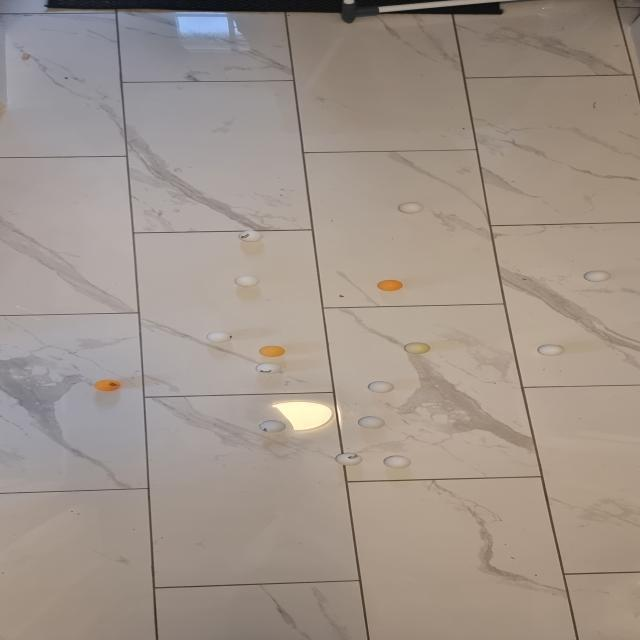orange: (256, 345, 286, 357), (93, 379, 121, 391), (378, 279, 403, 291)
white: (396, 201, 424, 214), (366, 381, 394, 394), (255, 362, 282, 375), (359, 416, 386, 429), (383, 456, 412, 468), (336, 453, 362, 466), (583, 270, 611, 282), (260, 420, 287, 432), (237, 230, 263, 242), (234, 275, 260, 287), (207, 331, 233, 343), (538, 344, 564, 356), (405, 342, 430, 353)
